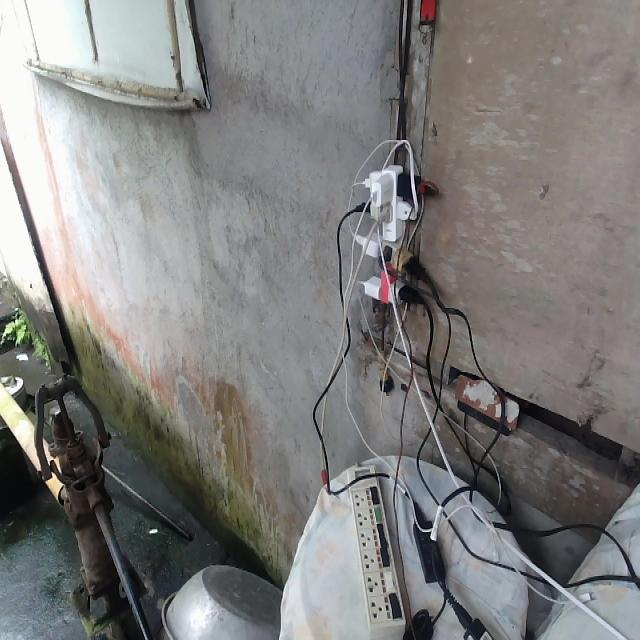-: (351, 166, 433, 306)
